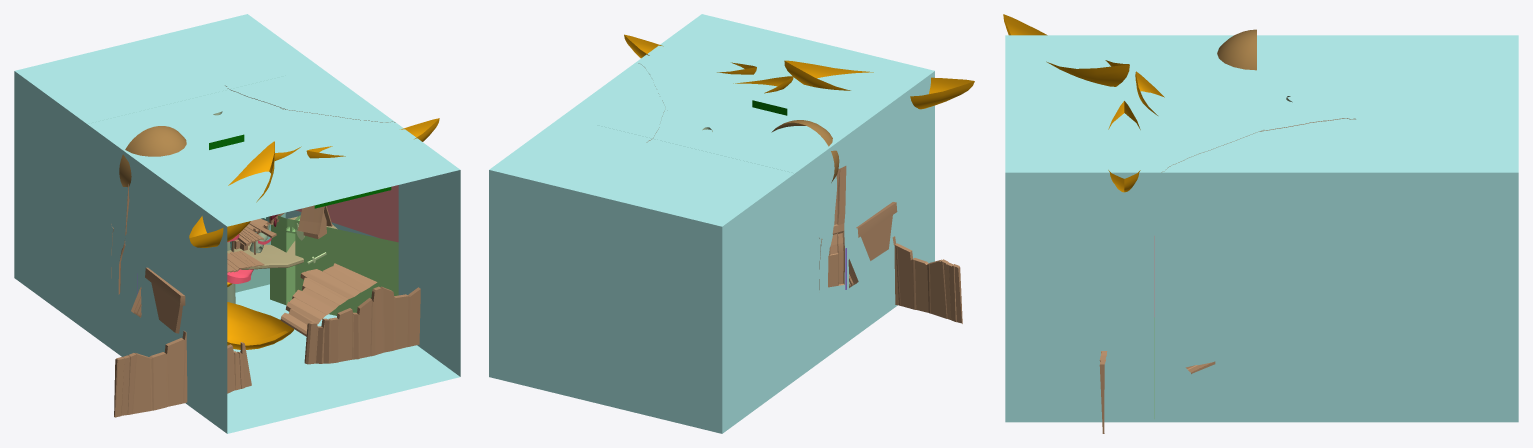
Rendered from RaymanLevelModelsNoskybox.fbx.
3 renders of one model, left to right at view 1: azimuth 30°, elevation 25°; view 2: azimuth 150°, elevation 25°; view 3: azimuth 270°, elevation 25°, orthographic. The views are drawn at different scales.
Parts seen in each view (by area): view 1: Skybox1, BottomRightGreenHouse, ForegroundRightFence, ForegroundLeftFence, ForegroundRightFence1, UpperRightPinkHouse, Hammock7, TopLeftBallAboveWoodHouse, Hammock4, Crate3, BottomRightDirtPlatform, MidRightBirdhouse (+4 smaller); view 2: Skybox1, ForegroundLeftFence, Hammock4, LeftBuildingBackwall2, Crate3, Hammock1, TopLeftBallAboveWoodHouse; view 3: Skybox1, Hammock4, TopLeftBallAboveWoodHouse, Hammock1.
Boxes of the visible parts, box(x1,y1,x2,y2) form: Skybox1: box(14, 14, 460, 433); BottomRightGreenHouse: box(270, 215, 398, 315); ForegroundRightFence: box(304, 286, 420, 364); ForegroundLeftFence: box(114, 331, 251, 417); ForegroundRightFence1: box(280, 263, 377, 336); UpperRightPinkHouse: box(295, 185, 398, 242); Hammock7: box(227, 302, 293, 349); TopLeftBallAboveWoodHouse: box(119, 126, 186, 187); Hammock4: box(189, 141, 274, 247); Crate3: box(145, 267, 185, 333); BottomRightDirtPlatform: box(227, 216, 337, 269); MidRightBirdhouse: box(297, 205, 332, 238); Skybox1: box(489, 14, 934, 433); ForegroundLeftFence: box(892, 236, 962, 323); Hammock4: box(784, 60, 974, 109); LeftBuildingBackwall2: box(819, 166, 846, 289); Crate3: box(856, 202, 897, 260); Hammock1: box(624, 34, 756, 74); TopLeftBallAboveWoodHouse: box(771, 120, 839, 182); Skybox1: box(1005, 35, 1518, 422); Hammock4: box(1003, 14, 1129, 86); TopLeftBallAboveWoodHouse: box(1217, 29, 1256, 70); Hammock1: box(1108, 101, 1140, 192).
Size of the model in its own units: 22.75 by 15.14 by 25.38.
